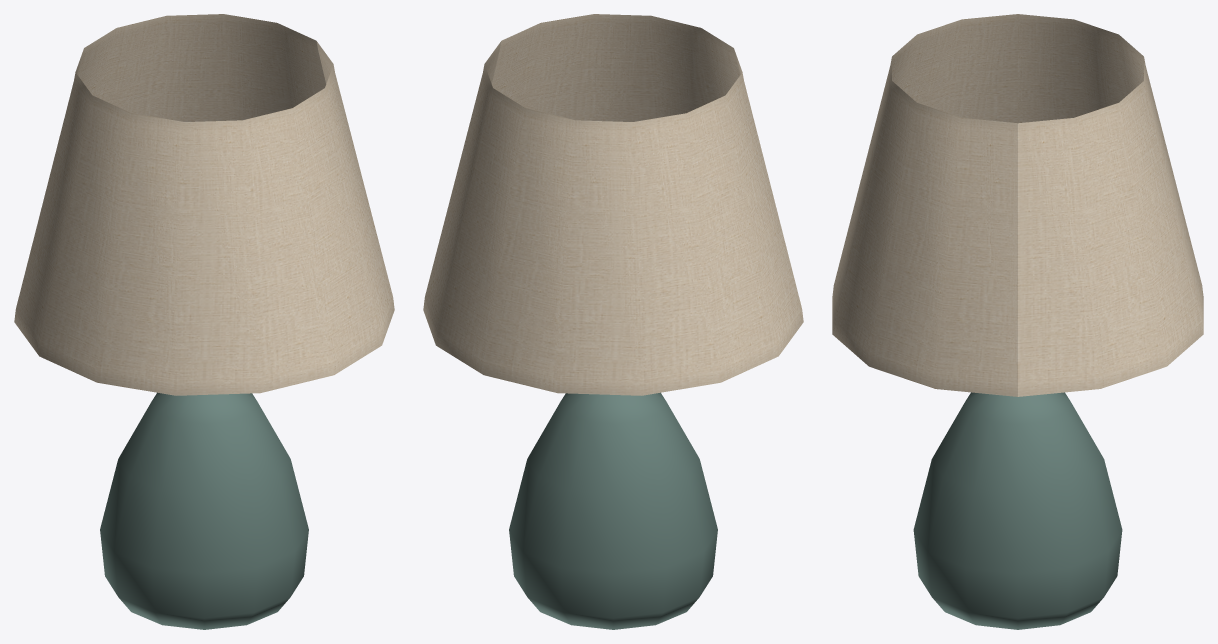
The model's file is linen_table_lamp.glb.
3 renders of one model, left to right at view 1: azimuth 30°, elevation 25°; view 2: azimuth 150°, elevation 25°; view 3: azimuth 270°, elevation 25°, orthographic.
Visible parts, largest first — view 1: linen_table_lamp; view 2: linen_table_lamp; view 3: linen_table_lamp.
Boxes of the visible parts, x1,y1,x2,y2 form: linen_table_lamp: (14, 14, 394, 629); linen_table_lamp: (423, 14, 803, 629); linen_table_lamp: (832, 14, 1203, 629).
Bounding box in the file's own units: 0.23 × 0.35 × 0.2242.
Materials: 3 (1 with a texture image).
